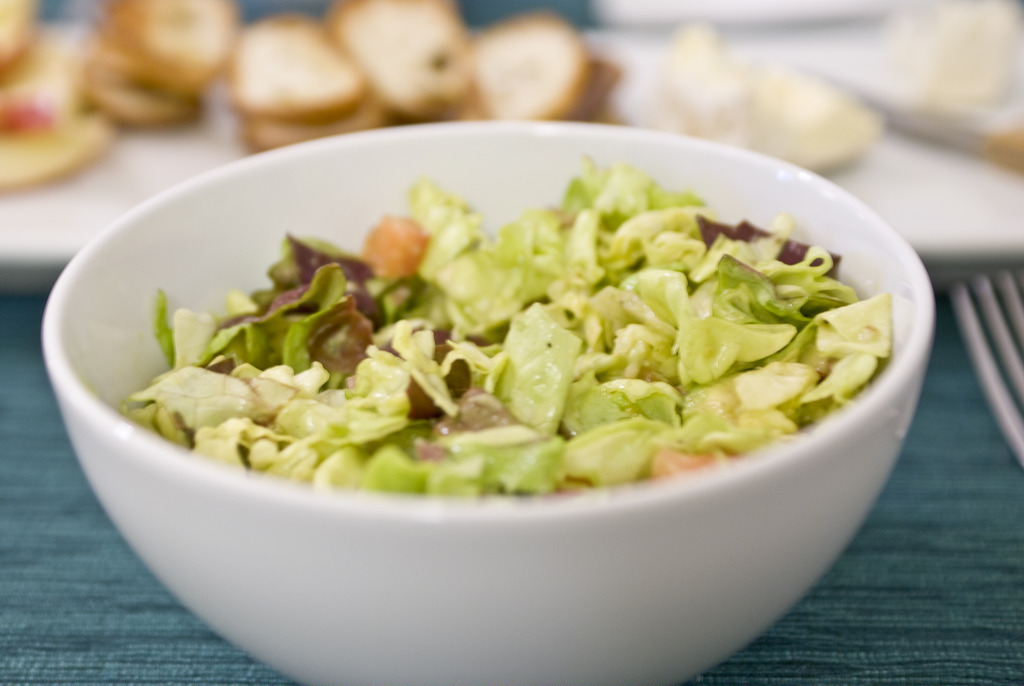chopped lettuce: (181, 202, 833, 488)
